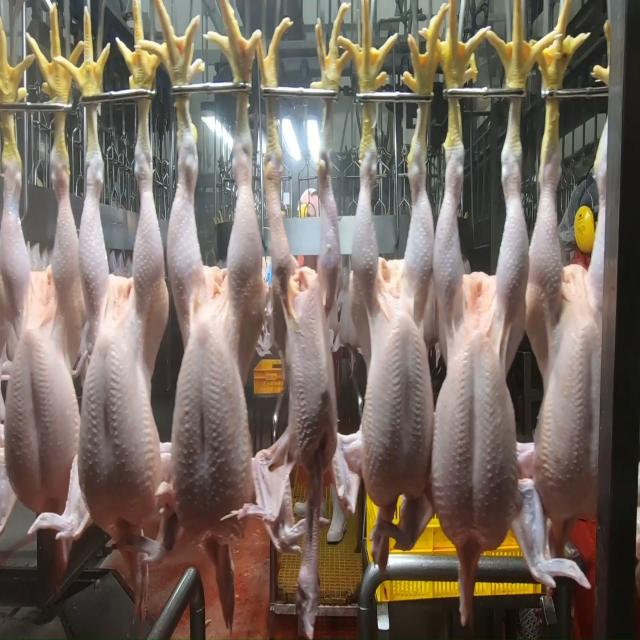chicken: (68, 145, 172, 529), (438, 134, 529, 552), (169, 133, 255, 530), (358, 100, 436, 503), (528, 146, 608, 529), (260, 139, 344, 485), (2, 155, 82, 513)
